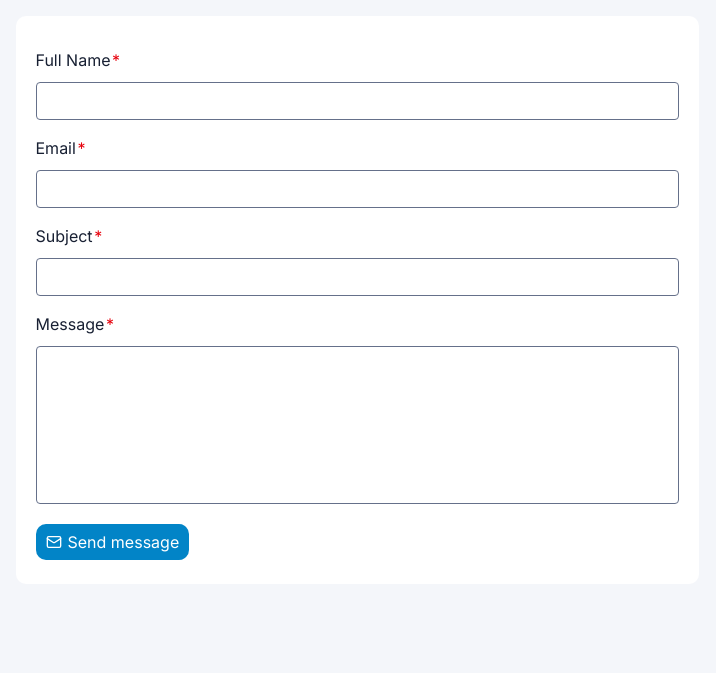
ContactForm › shows the successful delivery message
The width and height of the screenshot is (716, 673).
In the field labelled "Full Name": (357, 101) [36,82,678,120], type "Fazle Rabbi"
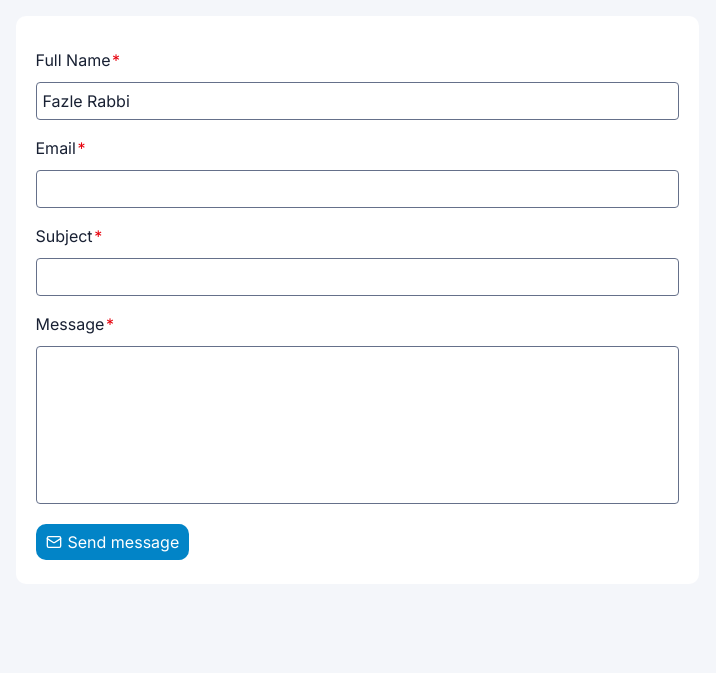
In the field labelled "Email": (357, 189) [36,170,678,208], type "fazle@example.com"
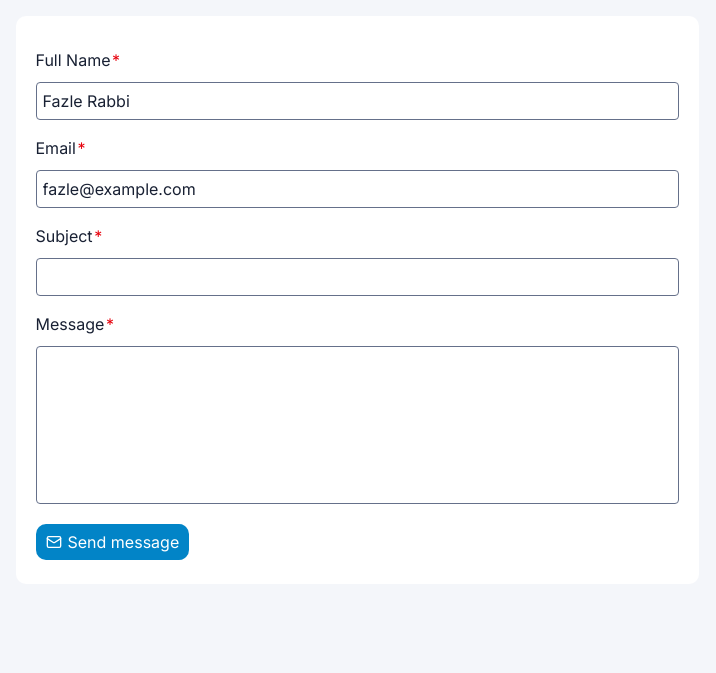
In the field labelled "Subject": (357, 277) [36,258,678,296], type "Portfolio enquiry"
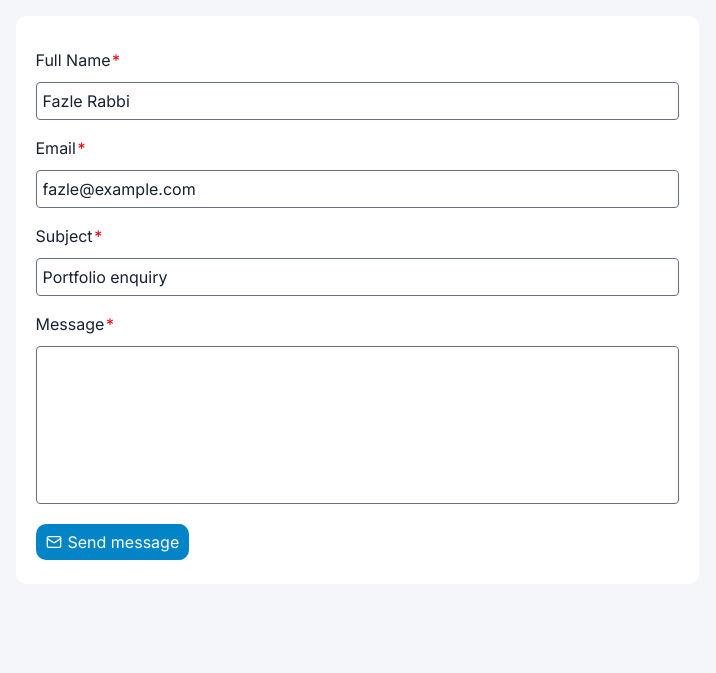
In the text box labelled "Message": (357, 425) [36,346,678,504], type "Hello from a portfolio visitor."
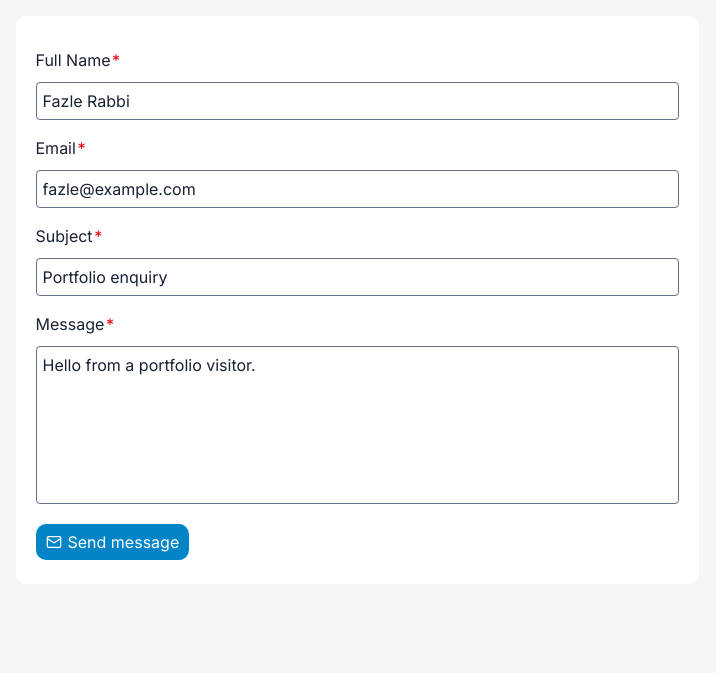
Click the button "Send message": (112, 542) [36,524,189,560]
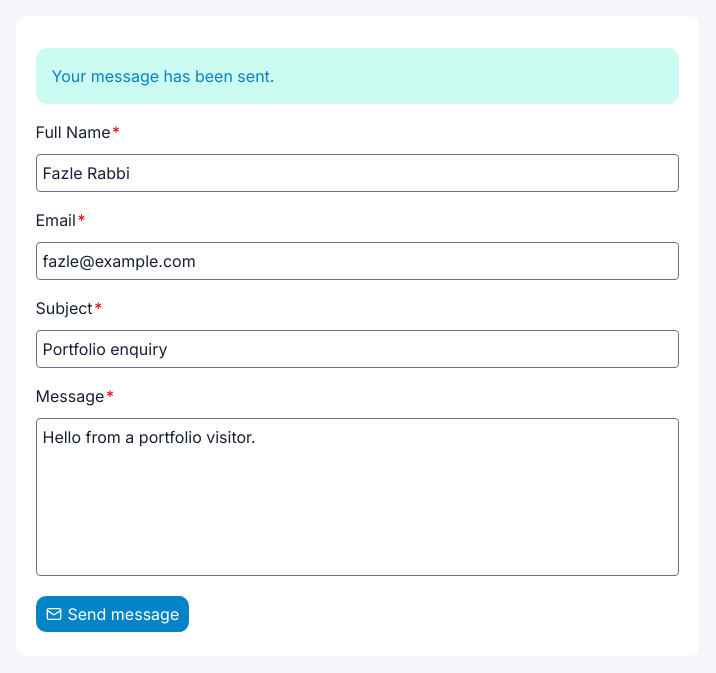
Expected: the text "Your message has been sent." is shown, [36,48,678,104]
